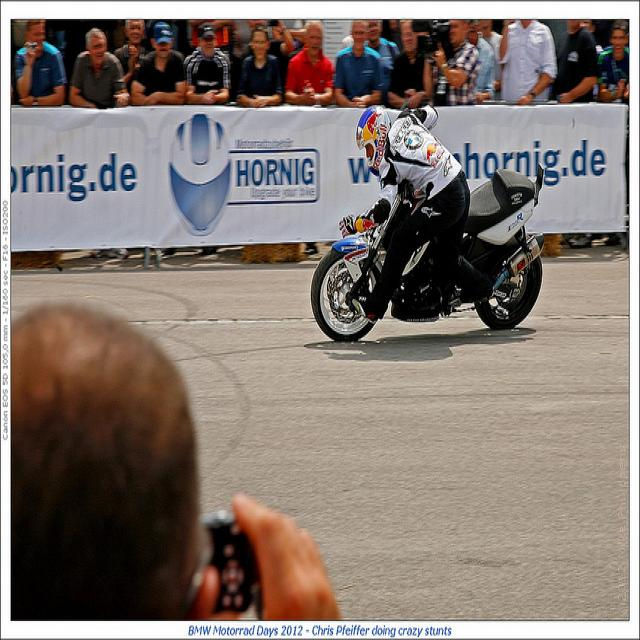motor: (310, 168, 546, 339)
